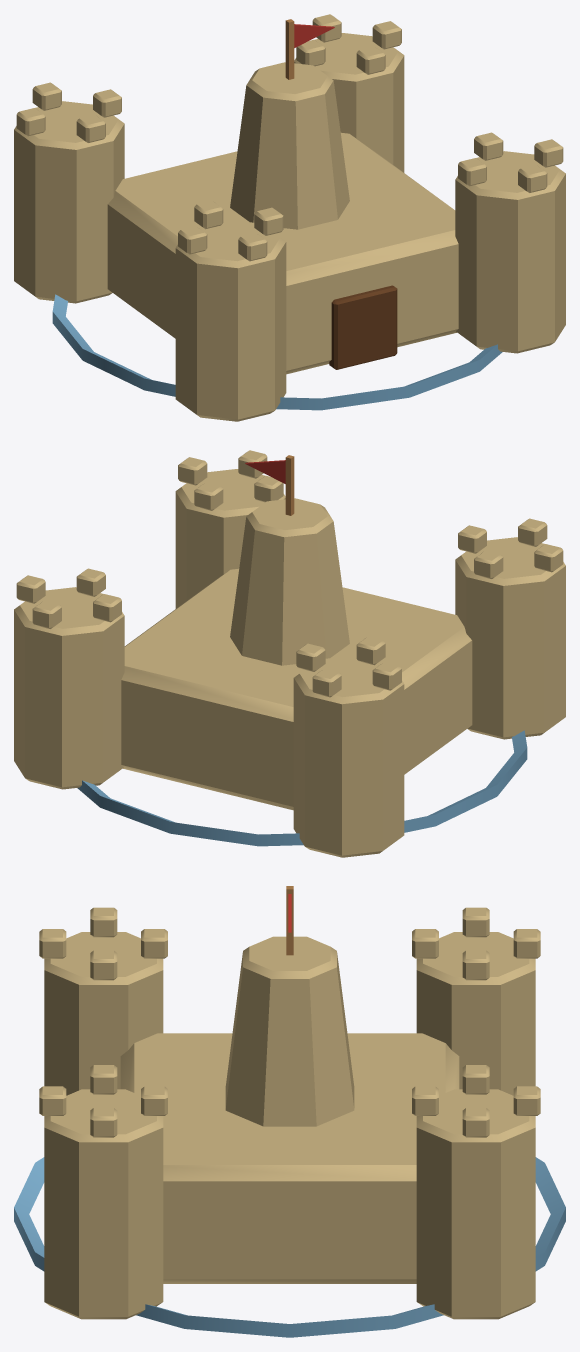
File: 143_chateau_sable.fbx
3 views of the same model, one above another, from view 1: azimuth 30°, elevation 25°; view 2: azimuth 150°, elevation 25°; view 3: azimuth 270°, elevation 25° (orthographic). The views are drawn at different scales.
Parts seen in each view (by area): view 1: Chateau; view 2: Chateau; view 3: Chateau.
Part boxes in pixels (x1,y1,x2,y2): Chateau: (14, 14, 565, 421); Chateau: (14, 450, 565, 857); Chateau: (14, 886, 565, 1337).
Bounding box in the file's own units: 0.84 × 0.56 × 0.84.
1 material, 1 textured.
